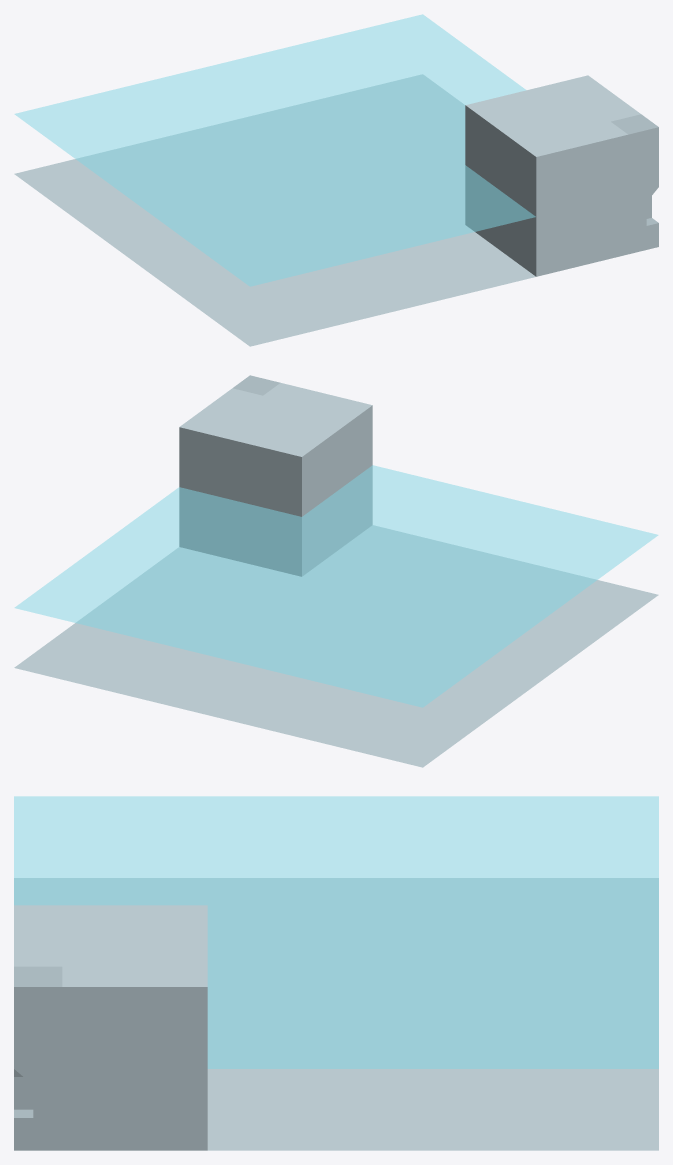
Rendered from fountain_corner_inner_square.glb.
The picture shows the model from 3 angles, top to bottom: view 1: azimuth 30°, elevation 25°; view 2: azimuth 150°, elevation 25°; view 3: azimuth 270°, elevation 25°; orthographic projection. The views are drawn at different scales.
Visible parts, largest first — view 1: fountainCornerInnerSquare; view 2: fountainCornerInnerSquare; view 3: fountainCornerInnerSquare.
Part boxes in pixels (x1,y1,x2,y2): fountainCornerInnerSquare: (14,14,658,346); fountainCornerInnerSquare: (14,375,658,767); fountainCornerInnerSquare: (14,796,658,1150).
Bounding box in the file's own units: 1 × 0.28 × 1.
